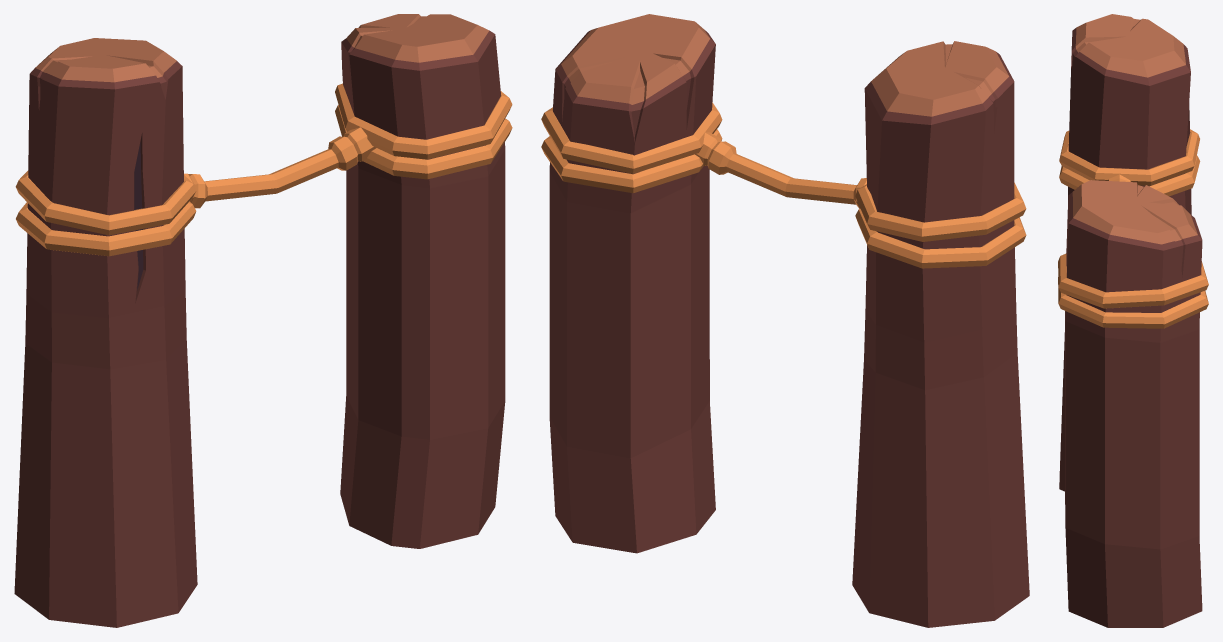
File: Fence Wooden Blunt 06.fbx
The picture shows the model from 3 angles, left to right: view 1: azimuth 30°, elevation 25°; view 2: azimuth 150°, elevation 25°; view 3: azimuth 270°, elevation 25°; orthographic projection. The views are drawn at different scales.
Parts seen in each view (by area): view 1: Fence Wooden Blunt 06; view 2: Fence Wooden Blunt 06; view 3: Fence Wooden Blunt 06.
Boxes of the visible parts, x1,y1,x2,y2 form: Fence Wooden Blunt 06: [14, 14, 512, 627]; Fence Wooden Blunt 06: [541, 14, 1029, 627]; Fence Wooden Blunt 06: [1058, 14, 1208, 627].
Size of the model in its own units: 99.54 by 111 by 34.1.
